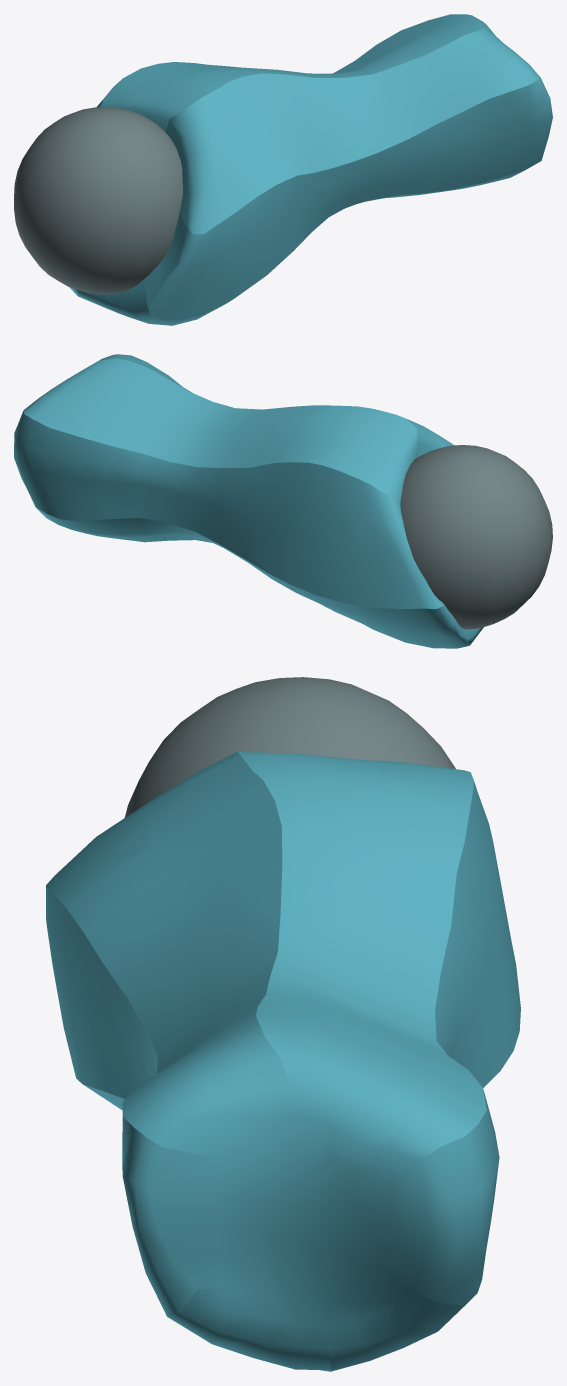
Rendered from arm.l.gltf.
3 views of the same model, one above another, from view 1: azimuth 30°, elevation 25°; view 2: azimuth 150°, elevation 25°; view 3: azimuth 270°, elevation 25° (orthographic). The views are drawn at different scales.
Visible parts, largest first — view 1: arm.l; view 2: arm.l; view 3: arm.l.
Part boxes in pixels (x1,y1,x2,y2): arm.l: (14,14,552,325); arm.l: (14,354,552,648); arm.l: (46,677,520,1371).
Size of the model in its own units: 0.6611 by 0.265 by 0.2783.
